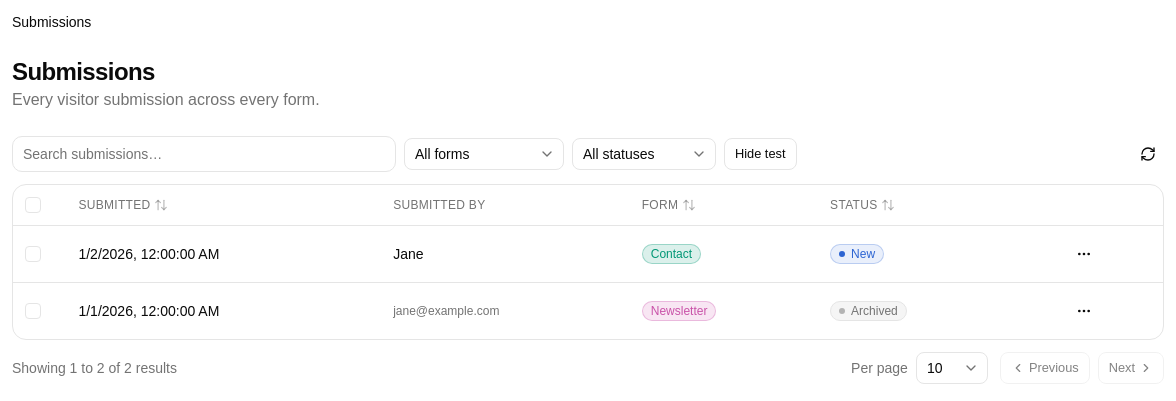
Test case: AllSubmissionsPage › filters by form
Expected: the icon "Contact" is shown, [642, 244, 701, 264]
Click the dropdown named "Filter by form": (484, 154) [404, 138, 564, 170]
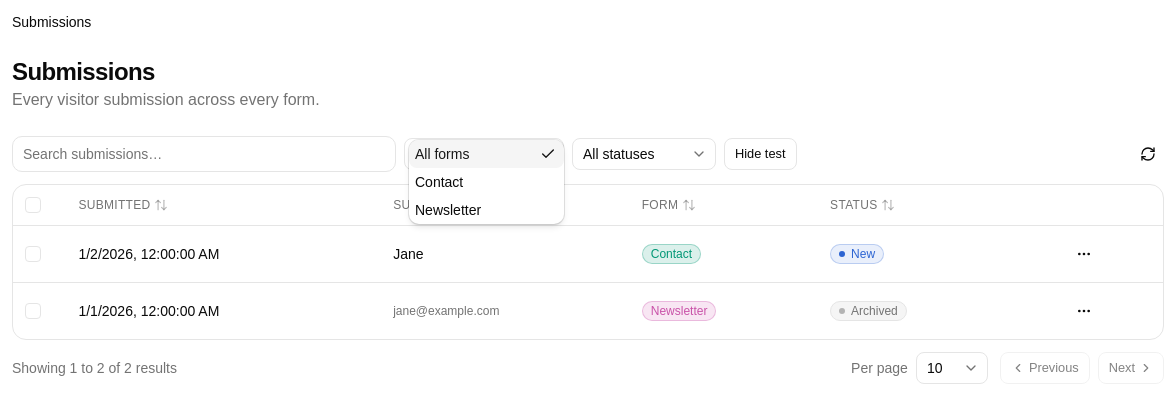
Click the option "Newsletter": (448, 210) [415, 202, 481, 218]
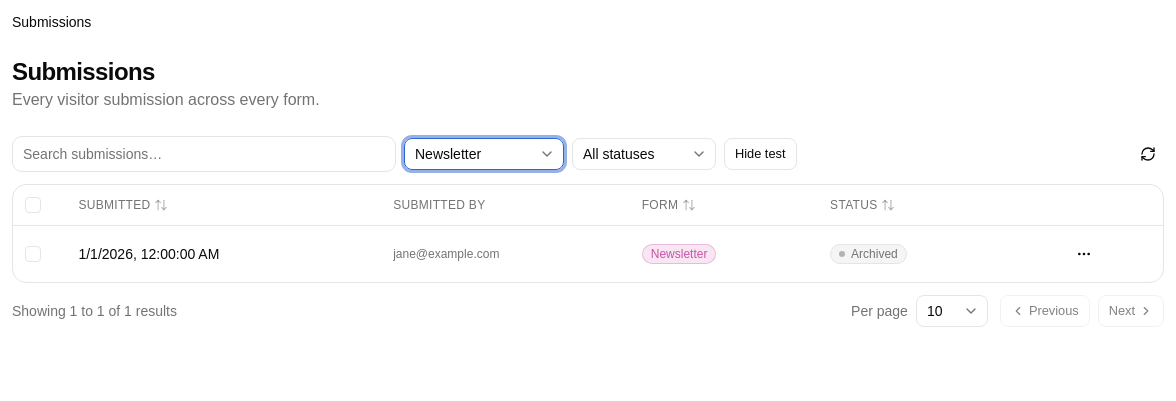
Expected: the link "Contact" is gone
Expected: the link "Newsletter" is shown, [642, 245, 716, 261]
